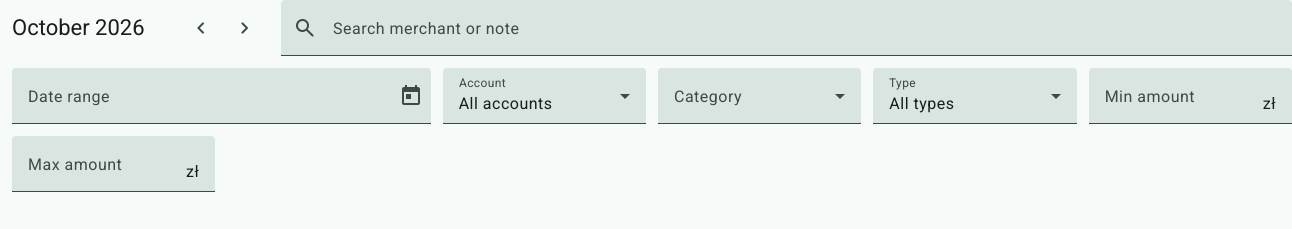
Test: FilterBarComponent › rejects a negative amount
Type "-5" into the field labelled "Min amount" at (1182, 104), box [1105, 92, 1258, 116]
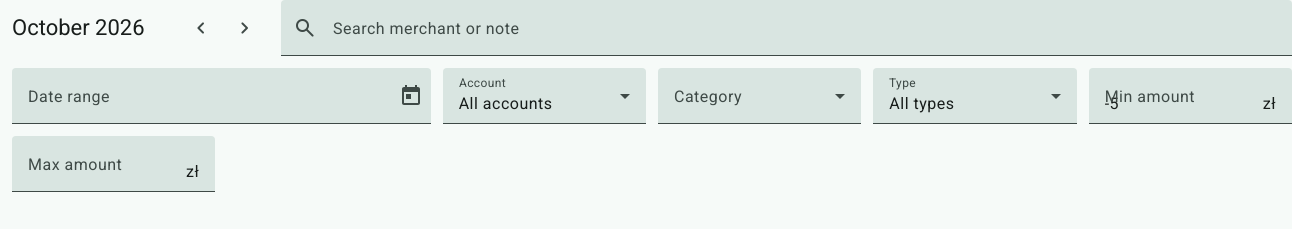
Leave the field labelled "Min amount", box [1105, 92, 1258, 116]
Wait 500 ms
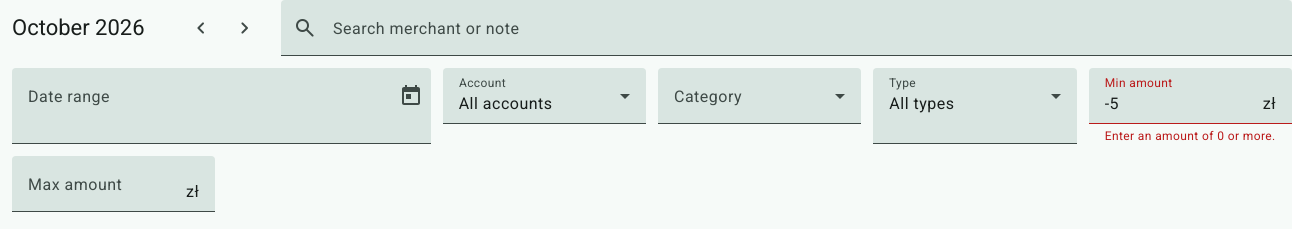
Check: the text "Enter an amount of 0 or more." is shown, box [1105, 124, 1276, 144]
